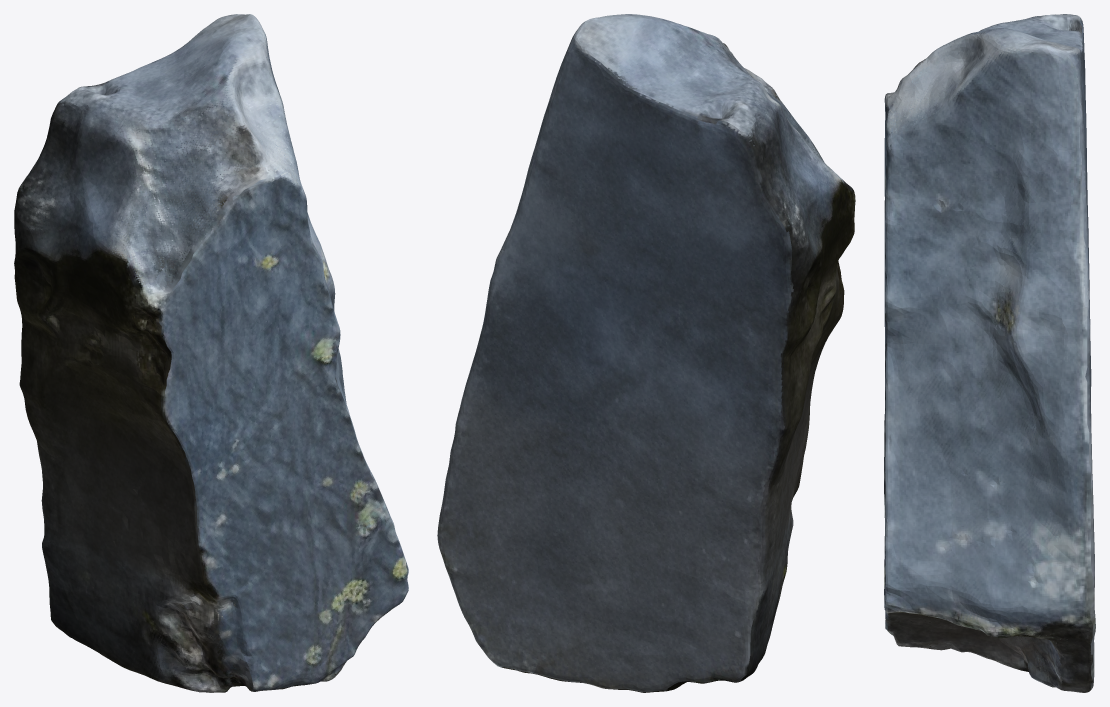
File: traveler_env_coast_iuchi_wind_buttress_00001_.glb
The picture shows the model from 3 angles, left to right: view 1: azimuth 30°, elevation 25°; view 2: azimuth 150°, elevation 25°; view 3: azimuth 270°, elevation 25°; orthographic projection. The views are drawn at different scales.
Visible parts, largest first — view 1: temp_mesh.ply; view 2: temp_mesh.ply; view 3: temp_mesh.ply.
Boxes of the visible parts, x1=… form: temp_mesh.ply: x1=14, y1=14, x2=408, y2=692; temp_mesh.ply: x1=437, y1=14, x2=855, y2=692; temp_mesh.ply: x1=884, y1=14, x2=1095, y2=692.
Size of the model in its own units: 1.14 by 1.97 by 0.6128.
1 material, 1 textured.
